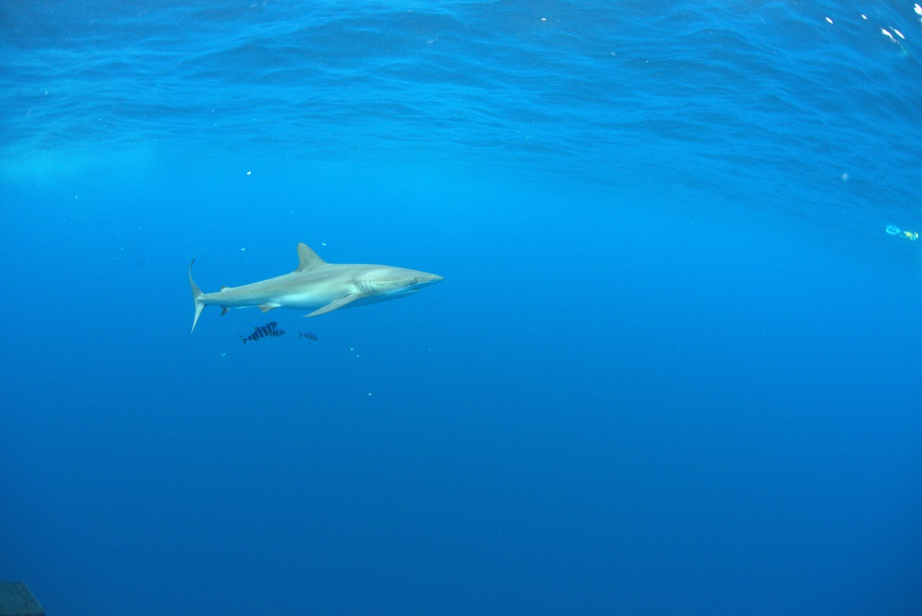Sedoso: (143, 229, 455, 335)
